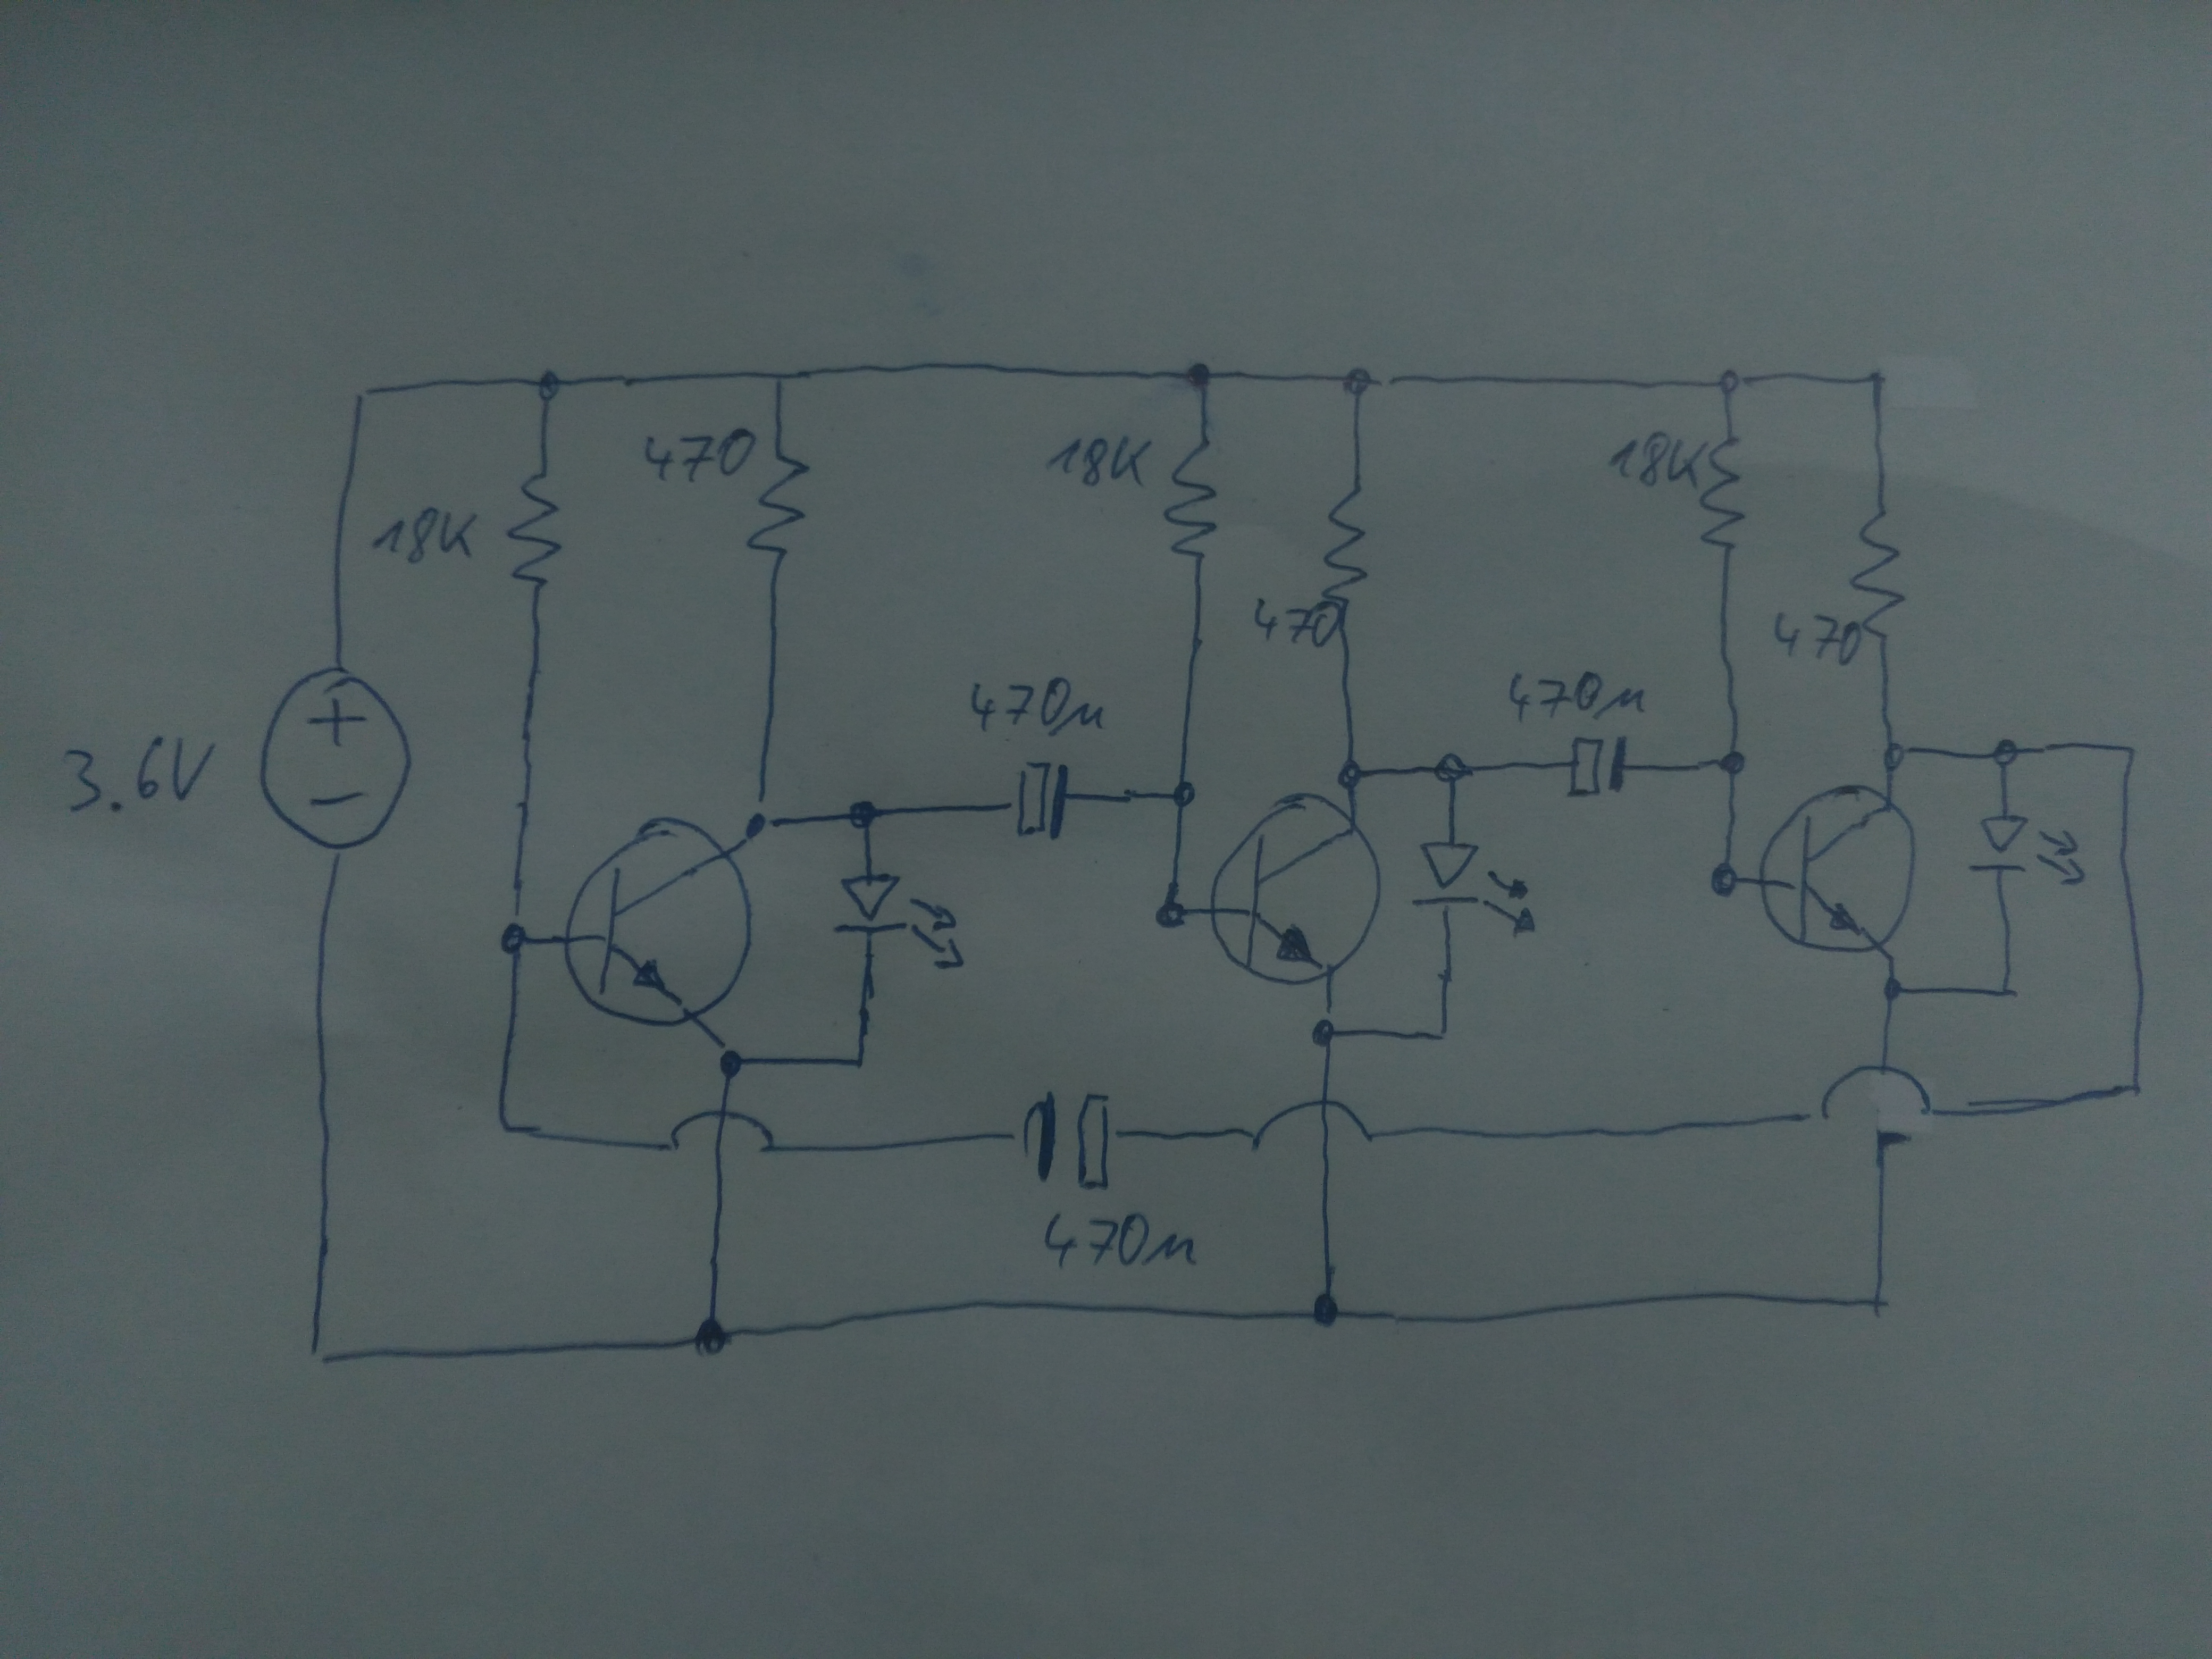capacitor.polarized: (1033, 1086, 1120, 1197), (1010, 753, 1073, 845), (1562, 730, 1635, 803)
crossover: (1810, 1061, 1944, 1152), (1242, 1094, 1381, 1154), (660, 1105, 780, 1159)
diode.light_emitting: (831, 868, 970, 978), (1407, 835, 1540, 939), (1965, 812, 2092, 894)
junction: (691, 1314, 737, 1358), (1336, 361, 1374, 403), (1430, 749, 1470, 788), (1153, 896, 1190, 936), (1703, 861, 1743, 897), (1306, 1290, 1343, 1330), (301, 1333, 338, 1373), (737, 809, 775, 845), (531, 368, 568, 404), (1165, 775, 1200, 814), (1986, 735, 2024, 770), (845, 798, 881, 833), (1710, 368, 1747, 403), (1876, 739, 1912, 774), (1306, 1016, 1341, 1051), (495, 924, 531, 957), (716, 1047, 749, 1082), (1336, 758, 1369, 793), (2118, 1072, 2151, 1107), (1717, 744, 1750, 777), (2107, 737, 2141, 770), (1876, 972, 1907, 1006), (1181, 361, 1216, 390), (1860, 1290, 1897, 1317), (843, 1046, 874, 1077), (1430, 1018, 1461, 1049), (1862, 364, 1895, 394), (489, 1108, 519, 1141), (1991, 976, 2020, 1007), (348, 378, 378, 408), (766, 362, 796, 392)
resistor: (1844, 502, 1914, 647), (737, 441, 815, 566), (1158, 434, 1226, 575), (503, 464, 568, 601), (1688, 429, 1752, 558), (1318, 481, 1372, 613)
text: (59, 728, 225, 821), (1040, 1206, 1204, 1272), (965, 674, 1109, 741), (1503, 667, 1649, 723), (368, 502, 486, 568), (636, 425, 759, 484), (1606, 429, 1716, 493), (1043, 432, 1158, 490), (1770, 605, 1869, 669), (1249, 591, 1350, 650)
transistor: (561, 812, 758, 1035), (1205, 789, 1390, 990), (1754, 781, 1919, 958)
voltage.dc: (253, 657, 420, 861)
